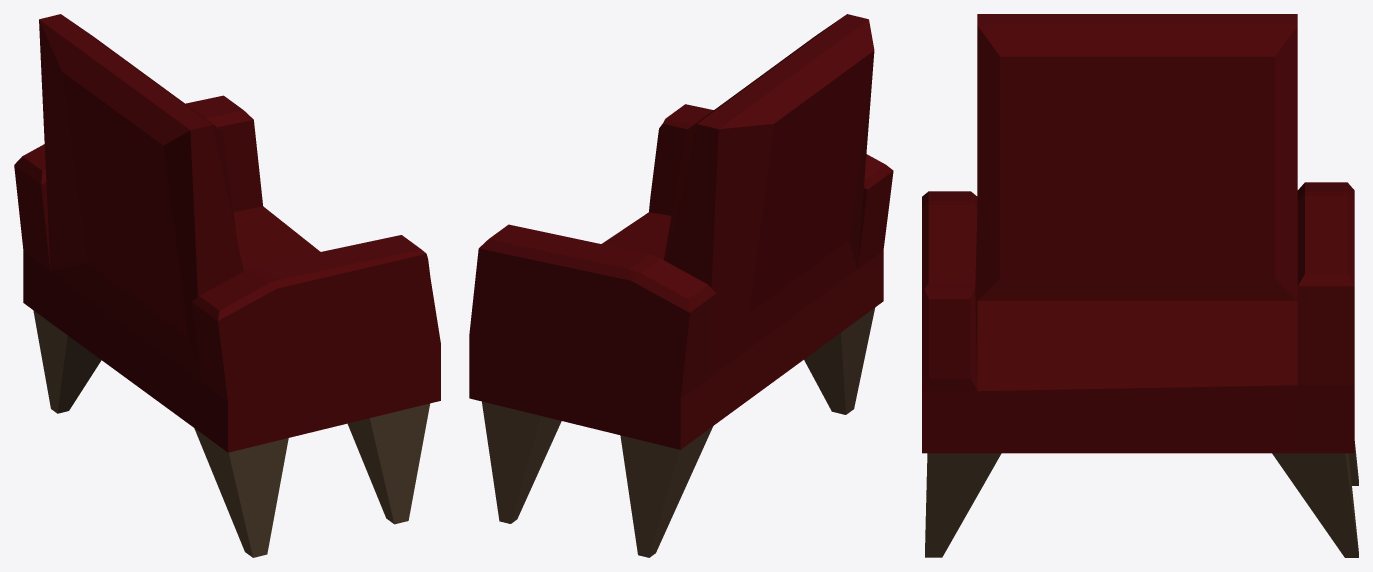
Rendered from ComfyChair.glb.
3 views of the same model, side by side, from view 1: azimuth 30°, elevation 25°; view 2: azimuth 150°, elevation 25°; view 3: azimuth 270°, elevation 25° (orthographic). The views are drawn at different scales.
Visible parts, largest first — view 1: Cube, Cube.001, Cube.002, Cube.004; view 2: Cube, Cube.004, Cube.003, Cube.001; view 3: Cube, Cube.002, Cube.003.
Boxes of the visible parts, x1=… form: Cube: x1=14, y1=14, x2=440, y2=452; Cube.001: x1=194, y1=428, x2=288, y2=557; Cube.002: x1=347, y1=403, x2=430, y2=524; Cube.004: x1=33, y1=310, x2=101, y2=413; Cube: x1=469, y1=14, x2=893, y2=449; Cube.004: x1=620, y1=426, x2=713, y2=557; Cube.003: x1=482, y1=401, x2=561, y2=523; Cube.001: x1=804, y1=308, x2=874, y2=414; Cube: x1=922, y1=14, x2=1354, y2=453; Cube.002: x1=925, y1=453, x2=1001, y2=557; Cube.003: x1=1272, y1=453, x2=1358, y2=557.
Size of the model in its own units: 2.26 by 3.78 by 3.36.
